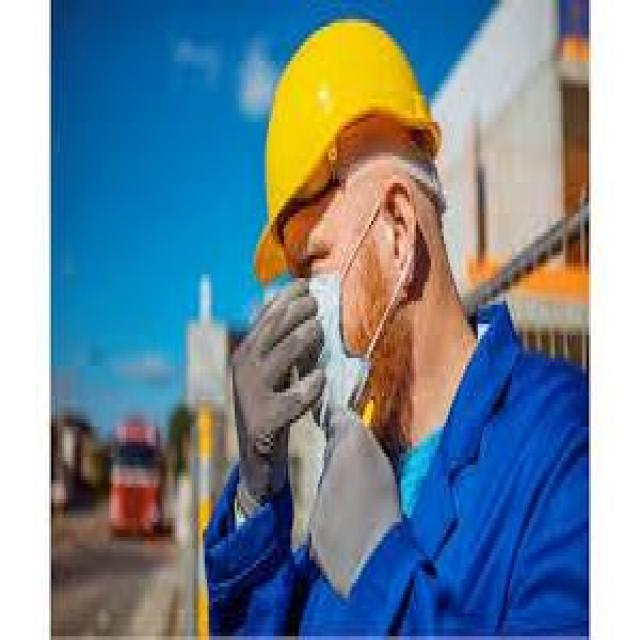Safety-Helmet: (252, 11, 444, 259)
